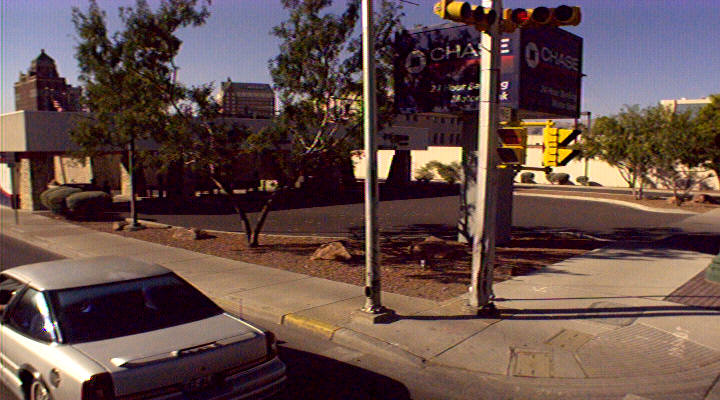Ramp: (351, 294, 720, 386)
